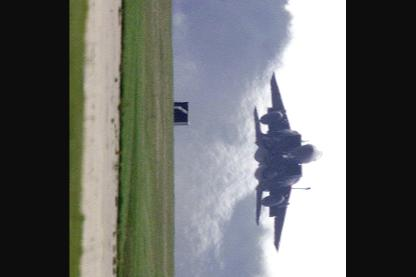F117: (254, 68, 323, 251)
